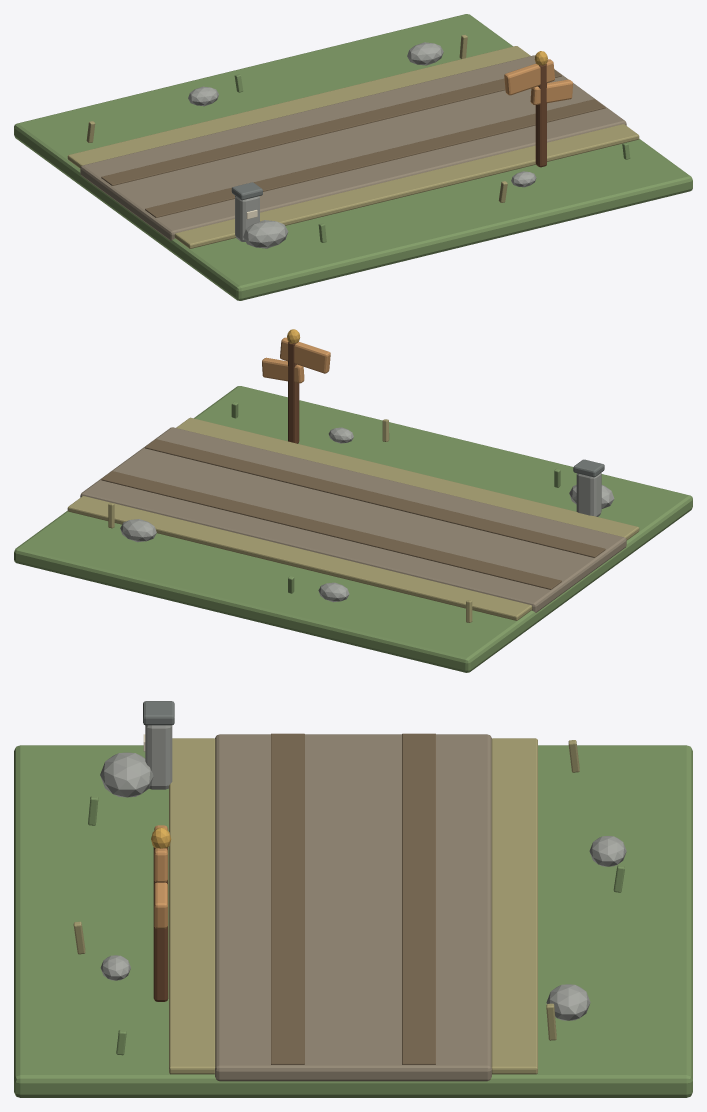
The model's file is environment_road_straight_v01.glb.
3 renders of one model, top to bottom at view 1: azimuth 30°, elevation 25°; view 2: azimuth 150°, elevation 25°; view 3: azimuth 270°, elevation 25°, orthographic. The views are drawn at different scales.
Parts seen in each view (by area): view 1: GEO_RoadGround, GEO_RoadBed, GEO_RoadShoulder, GEO_RoadShoulder.001, GEO_WheelRut, GEO_WheelRut.001, GEO_SignBoard, GEO_SignPost, GEO_RoadRock, GEO_Milestone, GEO_SignBoardBack, GEO_RoadRock.001 (+1 smaller); view 2: GEO_RoadGround, GEO_RoadBed, GEO_RoadShoulder.001, GEO_RoadShoulder, GEO_WheelRut, GEO_WheelRut.001, GEO_Milestone, GEO_SignBoard, GEO_SignPost, GEO_SignBoardBack, GEO_RoadRock.001; view 3: GEO_RoadGround, GEO_RoadBed, GEO_RoadShoulder.001, GEO_RoadShoulder, GEO_WheelRut, GEO_WheelRut.001, GEO_RoadRock, GEO_Milestone, GEO_SignPost, GEO_RoadRock.001, GEO_RoadRock.003, GEO_MilestoneCap (+2 smaller).
Part boxes in pixels (<box>): GEO_RoadGround: <box>14,14,692,300</box>; GEO_RoadBed: <box>80,55,626,240</box>; GEO_RoadShoulder: <box>174,124,639,248</box>; GEO_RoadShoulder.001: <box>67,46,530,168</box>; GEO_WheelRut: <box>145,99,605,217</box>; GEO_WheelRut.001: <box>101,70,561,185</box>; GEO_SignBoard: <box>504,59,554,95</box>; GEO_SignPost: <box>535,63,546,167</box>; GEO_RoadRock: <box>243,220,288,248</box>; GEO_Milestone: <box>235,196,259,241</box>; GEO_SignBoardBack: <box>530,79,572,105</box>; GEO_RoadRock.001: <box>407,42,443,65</box>; GEO_RoadGround: <box>14,386,692,672</box>; GEO_RoadBed: <box>80,427,626,612</box>; GEO_RoadShoulder.001: <box>67,496,532,620</box>; GEO_RoadShoulder: <box>176,417,639,540</box>; GEO_WheelRut: <box>145,439,605,557</box>; GEO_WheelRut.001: <box>101,471,561,589</box>; GEO_Milestone: <box>576,473,601,516</box>; GEO_SignBoard: <box>280,337,330,373</box>; GEO_SignPost: <box>288,342,299,443</box>; GEO_SignBoardBack: <box>262,357,304,383</box>; GEO_RoadRock.001: <box>120,519,156,542</box>; GEO_RoadGround: <box>14,745,692,1097</box>; GEO_RoadBed: <box>215,734,491,1081</box>; GEO_RoadShoulder.001: <box>491,738,537,1074</box>; GEO_RoadShoulder: <box>169,738,215,1074</box>; GEO_WheelRut: <box>271,733,304,1064</box>; GEO_WheelRut.001: <box>402,733,435,1064</box>; GEO_RoadRock: <box>100,752,153,797</box>; GEO_Milestone: <box>145,725,172,789</box>; GEO_SignPost: <box>153,847,168,1001</box>; GEO_RoadRock.001: <box>546,984,590,1020</box>; GEO_RoadRock.003: <box>589,836,626,866</box>; GEO_MilestoneCap: <box>143,701,174,725</box>.
Bounding box in the file's own units: 7 × 1.91 × 6.
